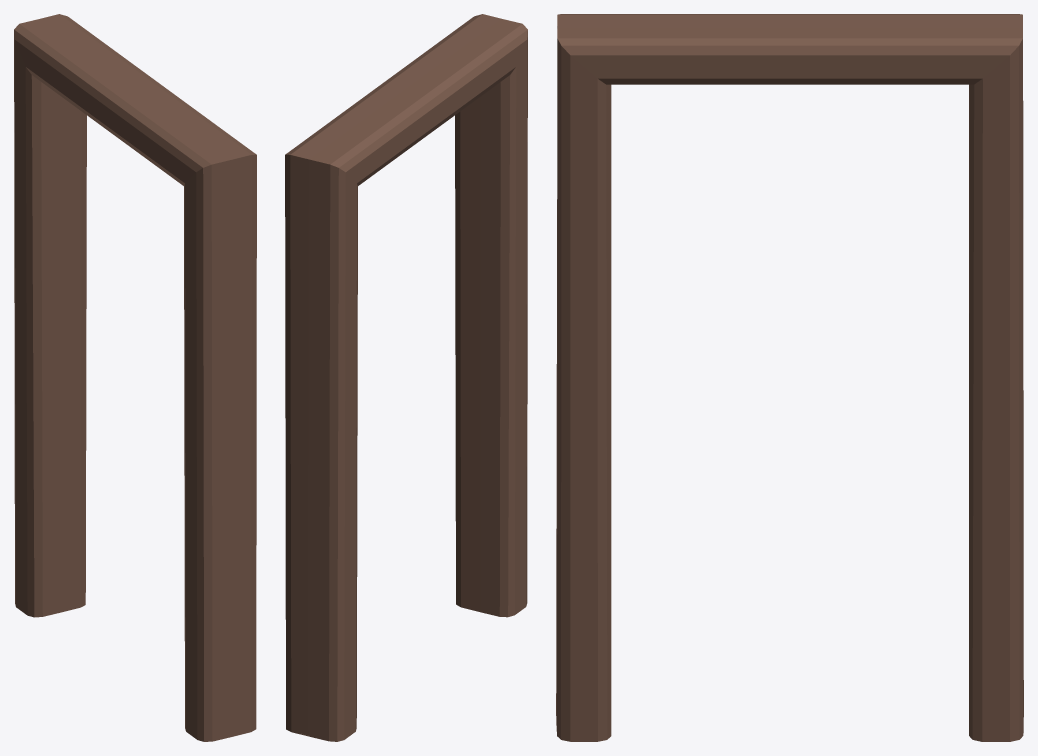
File: DoorFrame.fbx
The picture shows the model from 3 angles, left to right: view 1: azimuth 30°, elevation 25°; view 2: azimuth 150°, elevation 25°; view 3: azimuth 270°, elevation 25°; orthographic projection. The views are drawn at different scales.
Visible parts, largest first — view 1: Cube.129; view 2: Cube.129; view 3: Cube.129.
Boxes of the visible parts, x1,y1,x2,y2 form: Cube.129: (14,14,256,741); Cube.129: (285,14,527,741); Cube.129: (556,14,1023,741).
Bounding box in the file's own units: 0.553 × 5.06 × 3.07.
